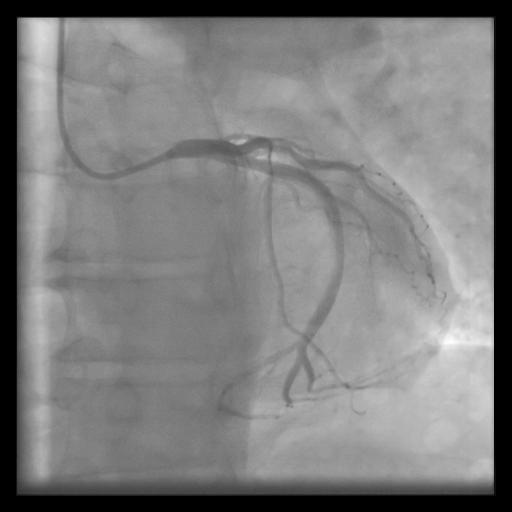Stenosis: (263, 145, 276, 182)
